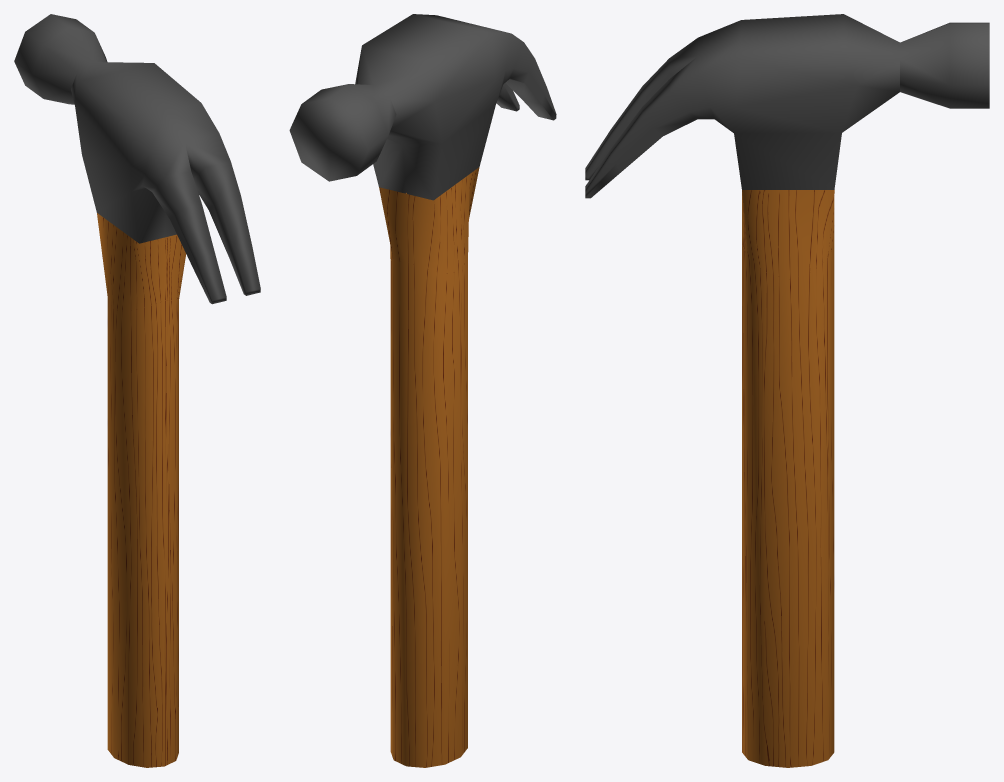
Rendered from hammer2.fbx.
3 views of the same model, side by side, from view 1: azimuth 30°, elevation 25°; view 2: azimuth 150°, elevation 25°; view 3: azimuth 270°, elevation 25° (orthographic). The views are drawn at different scales.
Parts seen in each view (by area): view 1: Handle, Head.001; view 2: Handle, Head.001; view 3: Handle, Head.001.
Part boxes in pixels (x1,y1,x2,y2): Handle: (97, 213, 185, 767); Head.001: (14, 14, 260, 304); Handle: (379, 167, 479, 767); Head.001: (289, 14, 556, 200); Handle: (742, 190, 834, 767); Head.001: (585, 14, 989, 198).
Size of the model in its own units: 8.57 by 74.8 by 37.63.
